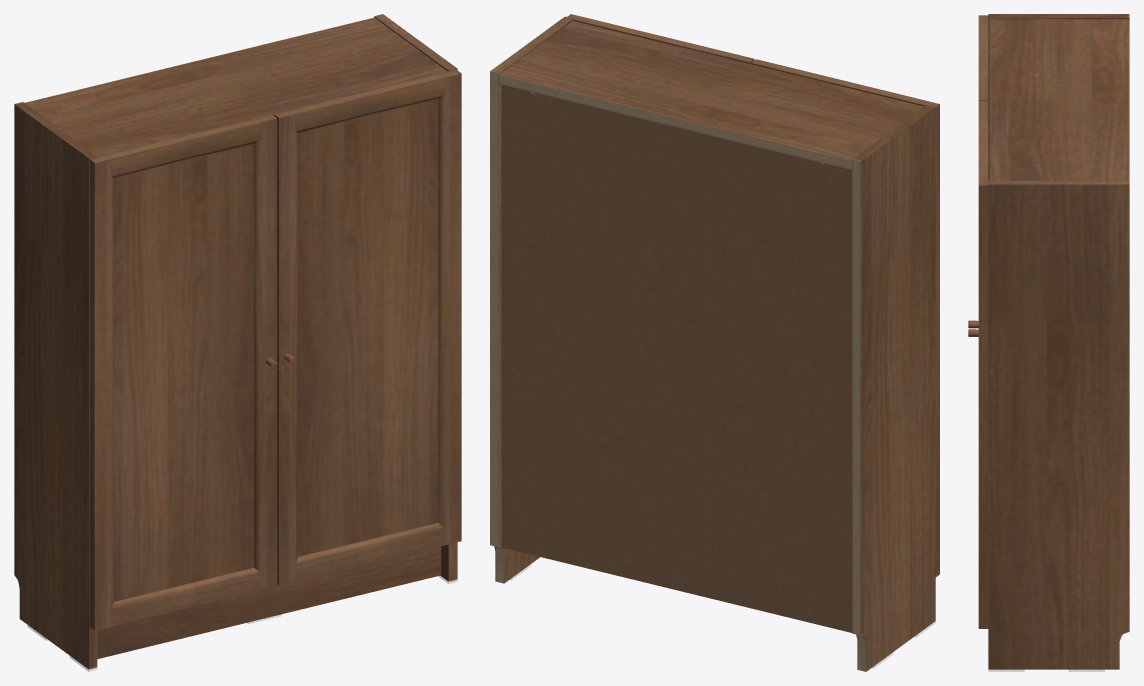
The model's file is 12 - BILLY OXBERG Bookcase with doors - brown walnut effect 80x30x106 cm.glb.
The picture shows the model from 3 angles, left to right: view 1: azimuth 30°, elevation 25°; view 2: azimuth 150°, elevation 25°; view 3: azimuth 270°, elevation 25°; orthographic projection. The views are drawn at different scales.
Visible parts, largest first — view 1: Mesh_0.001; view 2: Mesh_0.001; view 3: Mesh_0.001.
Boxes of the visible parts, x1,y1,x2,y2 form: Mesh_0.001: [14, 14, 461, 669]; Mesh_0.001: [490, 14, 939, 671]; Mesh_0.001: [968, 14, 1129, 669].
Bounding box in the file's own units: 0.8 × 1.06 × 0.32.
Materials: 2 (2 with a texture image).
